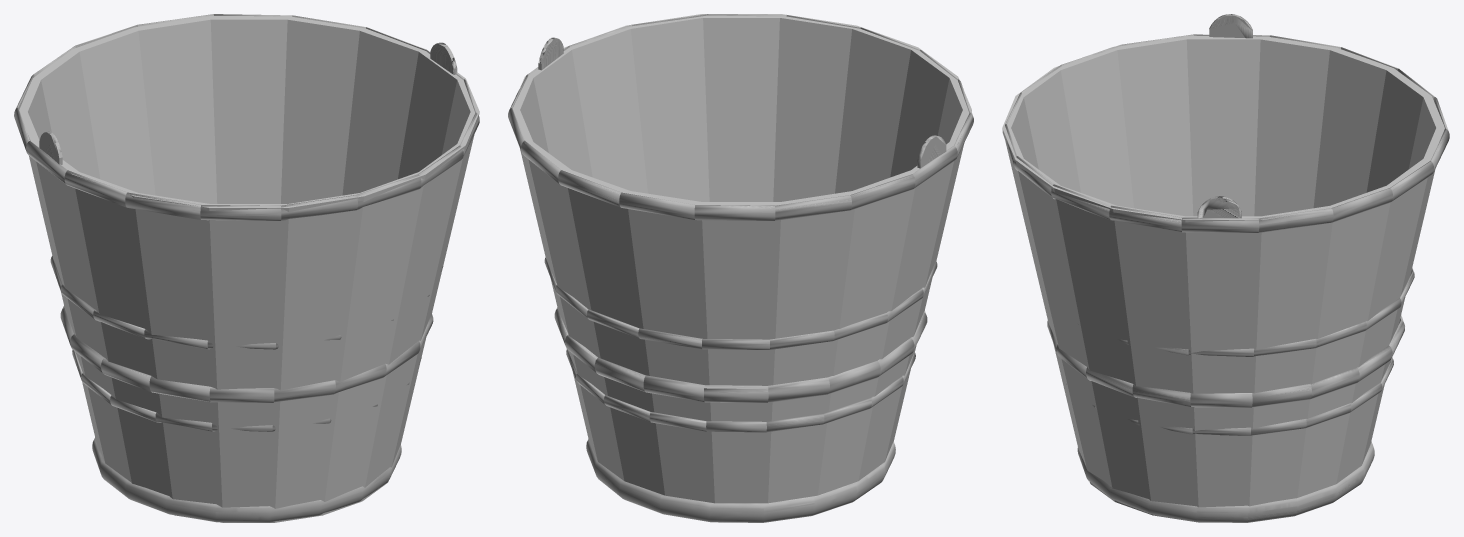
The model's file is original-3.obj.
3 renders of one model, left to right at view 1: azimuth 30°, elevation 25°; view 2: azimuth 150°, elevation 25°; view 3: azimuth 270°, elevation 25°, orthographic. The views are drawn at different scales.
Parts seen in each view (by area): view 1: Circle.011_Circle.149, Circle.010_Circle.148, Circle.012_Circle.150, Circle.007_Circle.145, Circle.002_Circle.140, Circle.013_Circle.151, Circle.001_Circle.139, Circle.003_Circle.141, Circle_Circle.138, Circle.004_Circle.142, Circle.008_Circle.146, Circle.014_Circle.152 (+19 smaller); view 2: Circle.017_Circle.155, Circle_Circle.138, Circle.016_Circle.154, Circle.008_Circle.146, Circle.015_Circle.153, Circle.001_Circle.139, Circle.007_Circle.145, Circle.009_Circle.147, Circle.010_Circle.148, Circle.006_Circle.144, Circle.002_Circle.140, Circle.014_Circle.152 (+31 smaller); view 3: Circle.005_Circle.143, Circle.006_Circle.144, Circle.004_Circle.142, Circle.009_Circle.147, Circle.003_Circle.141, Circle.014_Circle.152, Circle.015_Circle.153, Circle.013_Circle.151, Circle.016_Circle.154, Circle.012_Circle.150, Circle.008_Circle.146, Circle.002_Circle.140 (+22 smaller).
Boxes of the visible parts, left/top/right/bottom form: Circle.011_Circle.149: left=209, top=204, right=289, bottom=522; Circle.010_Circle.148: left=274, top=193, right=364, bottom=522; Circle.012_Circle.150: left=134, top=193, right=223, bottom=522; Circle.007_Circle.145: left=323, top=172, right=425, bottom=515; Circle.002_Circle.140: left=209, top=16, right=288, bottom=203; Circle.013_Circle.151: left=72, top=172, right=174, bottom=515; Circle.001_Circle.139: left=134, top=16, right=217, bottom=203; Circle.003_Circle.141: left=281, top=16, right=362, bottom=203; Circle_Circle.138: left=73, top=27, right=155, bottom=195; Circle.004_Circle.142: left=342, top=28, right=422, bottom=195; Circle.008_Circle.146: left=362, top=144, right=465, bottom=500; Circle.014_Circle.152: left=35, top=144, right=131, bottom=482; Circle.017_Circle.155: left=702, top=202, right=780, bottom=503; Circle_Circle.138: left=627, top=191, right=714, bottom=503; Circle.016_Circle.154: left=768, top=191, right=854, bottom=503; Circle.008_Circle.146: left=701, top=14, right=781, bottom=201; Circle.015_Circle.153: left=818, top=170, right=915, bottom=495; Circle.001_Circle.139: left=567, top=170, right=664, bottom=495; Circle.007_Circle.145: left=773, top=14, right=856, bottom=201; Circle.009_Circle.147: left=626, top=14, right=709, bottom=201; Circle.010_Circle.148: left=835, top=25, right=917, bottom=193; Circle.006_Circle.144: left=565, top=25, right=647, bottom=193; Circle.002_Circle.140: left=528, top=142, right=624, bottom=480; Circle.014_Circle.152: left=858, top=142, right=957, bottom=480; Circle.005_Circle.143: left=1185, top=216, right=1261, bottom=522; Circle.006_Circle.144: left=1113, top=206, right=1199, bottom=522; Circle.004_Circle.142: left=1249, top=206, right=1332, bottom=506; Circle.009_Circle.147: left=1054, top=186, right=1152, bottom=515; Circle.003_Circle.141: left=1297, top=186, right=1390, bottom=497; Circle.014_Circle.152: left=1186, top=35, right=1261, bottom=216; Circle.015_Circle.153: left=1254, top=36, right=1333, bottom=216; Circle.013_Circle.151: left=1114, top=37, right=1193, bottom=216; Circle.016_Circle.154: left=1313, top=47, right=1392, bottom=208; Circle.012_Circle.150: left=1054, top=47, right=1133, bottom=208; Circle.008_Circle.146: left=1015, top=158, right=1114, bottom=501; Circle.002_Circle.140: left=1336, top=158, right=1430, bottom=483.
Bounding box in the file's own units: 1.18 × 1.06 × 1.2.
